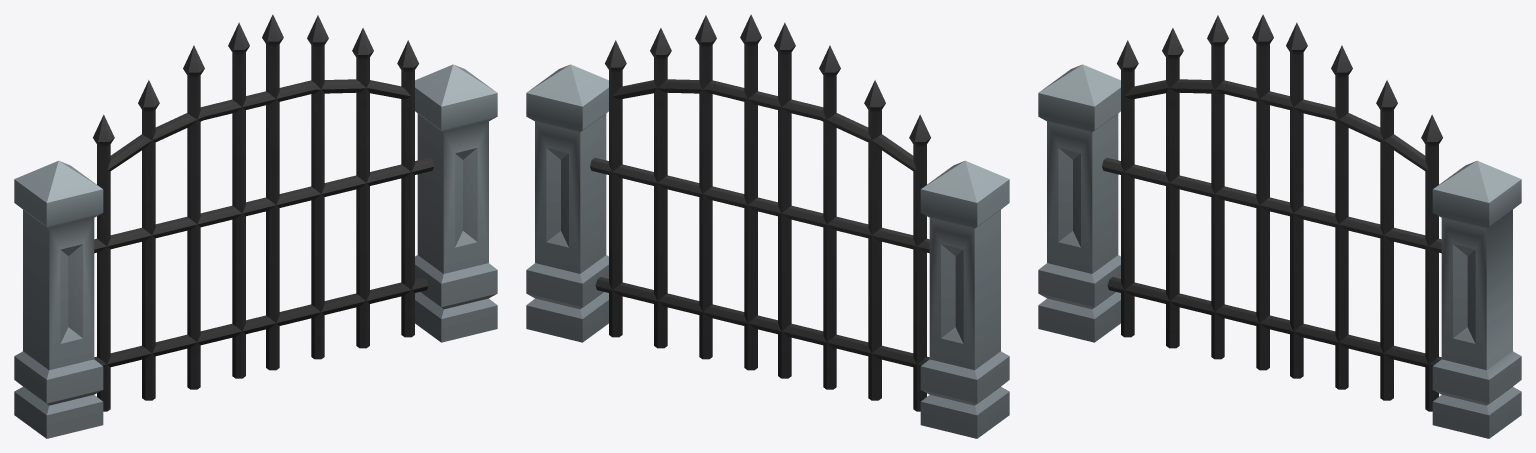
File: fence-gate.glb
3 renders of one model, left to right at view 1: azimuth 30°, elevation 25°; view 2: azimuth 150°, elevation 25°; view 3: azimuth 330°, elevation 25°, orthographic.
Parts seen in each view (by area): view 1: fence_gate; view 2: fence_gate; view 3: fence_gate.
Part boxes in pixels (<box>): fence_gate: <box>14,14,497,438</box>; fence_gate: <box>526,14,1009,438</box>; fence_gate: <box>1038,14,1521,438</box>.
Bounding box in the file's own units: 4 × 3 × 0.5.
1 material, 1 textured.
